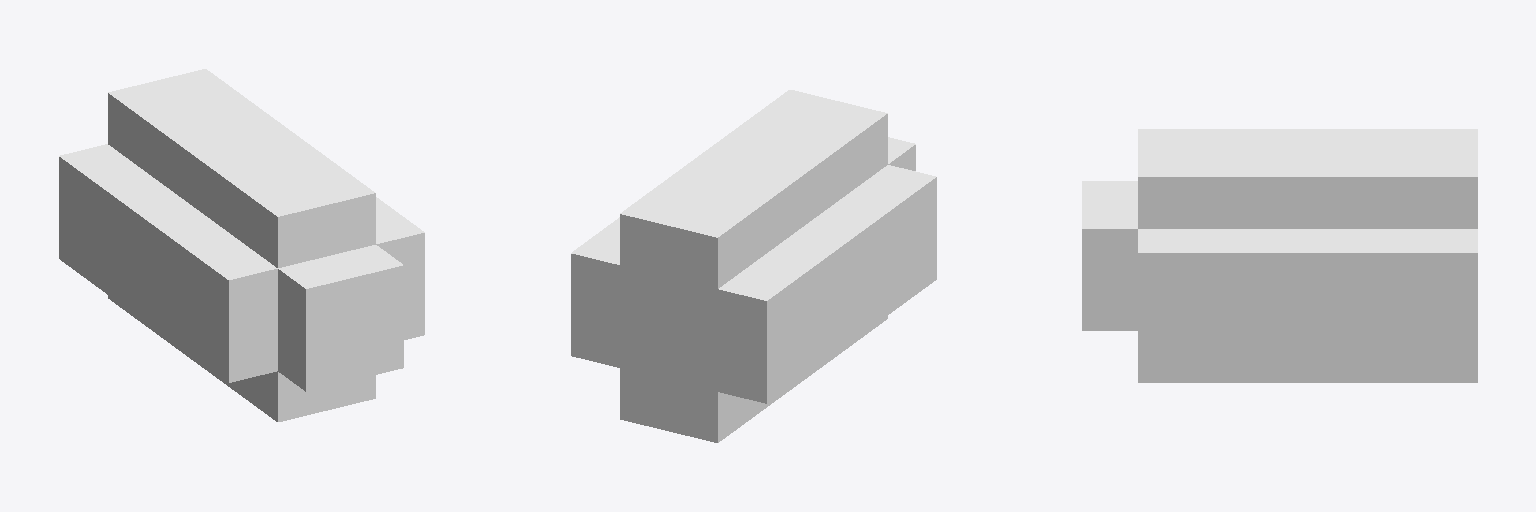
Rendered from Boss-7.obj.
3 views of the same model, side by side, from view 1: azimuth 30°, elevation 25°; view 2: azimuth 150°, elevation 25°; view 3: azimuth 270°, elevation 25° (orthographic).
Visible parts, largest first — view 1: Boss-7; view 2: Boss-7; view 3: Boss-7.
Boxes of the visible parts, <box> form: Boss-7: <box>59,69,424,421</box>; Boss-7: <box>571,90,936,442</box>; Boss-7: <box>1082,129,1477,382</box>.
Size of the model in its own units: 4 by 4 by 7.